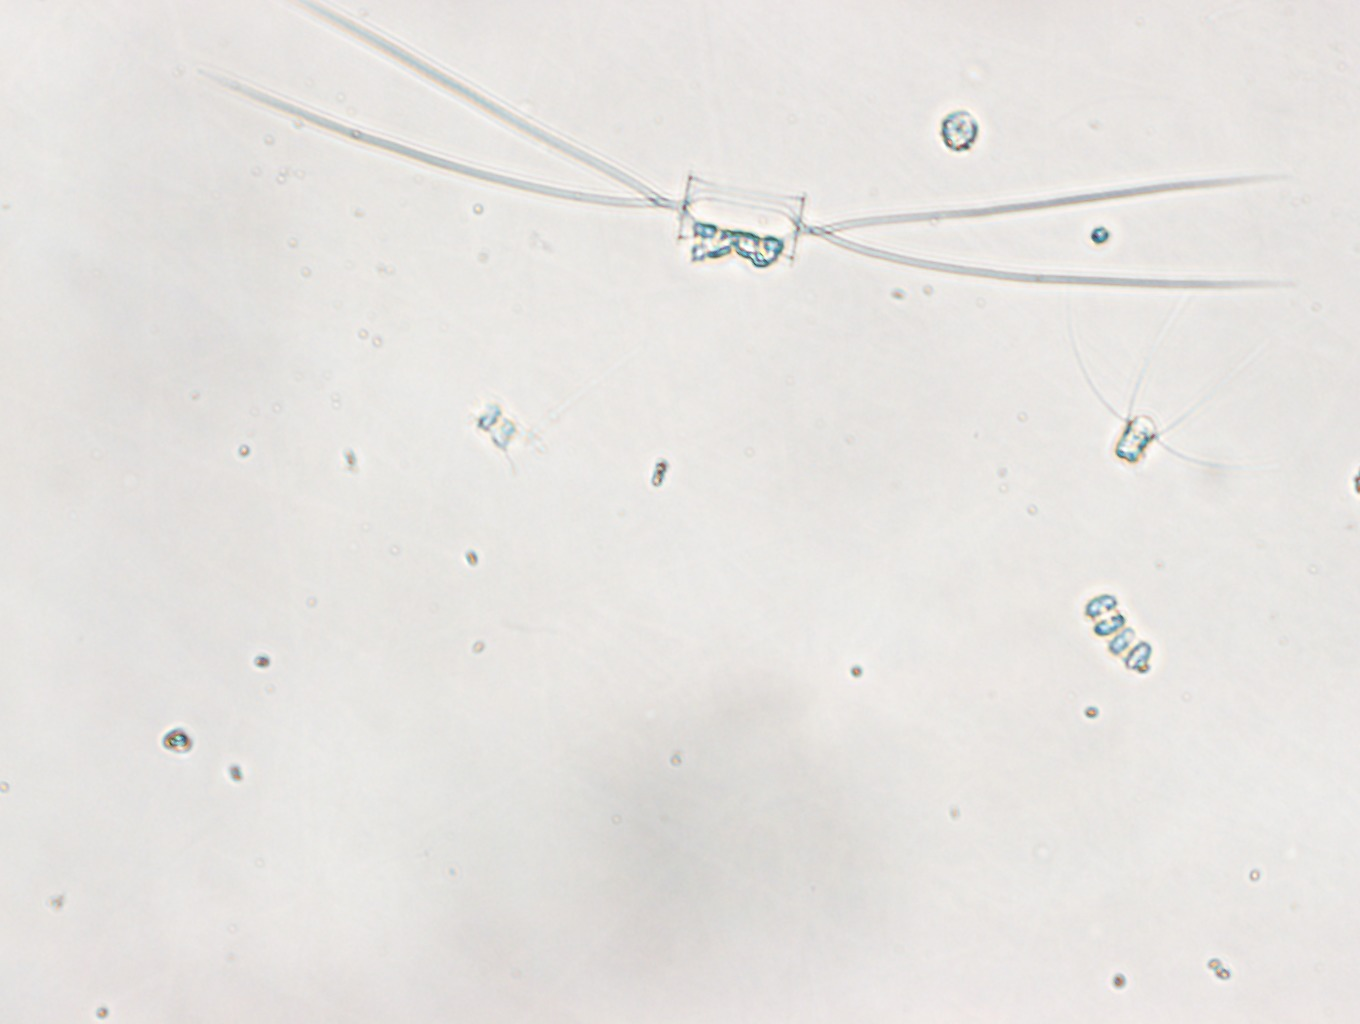chaetoceros: (198, 1, 1293, 291), (1069, 291, 1269, 466)
